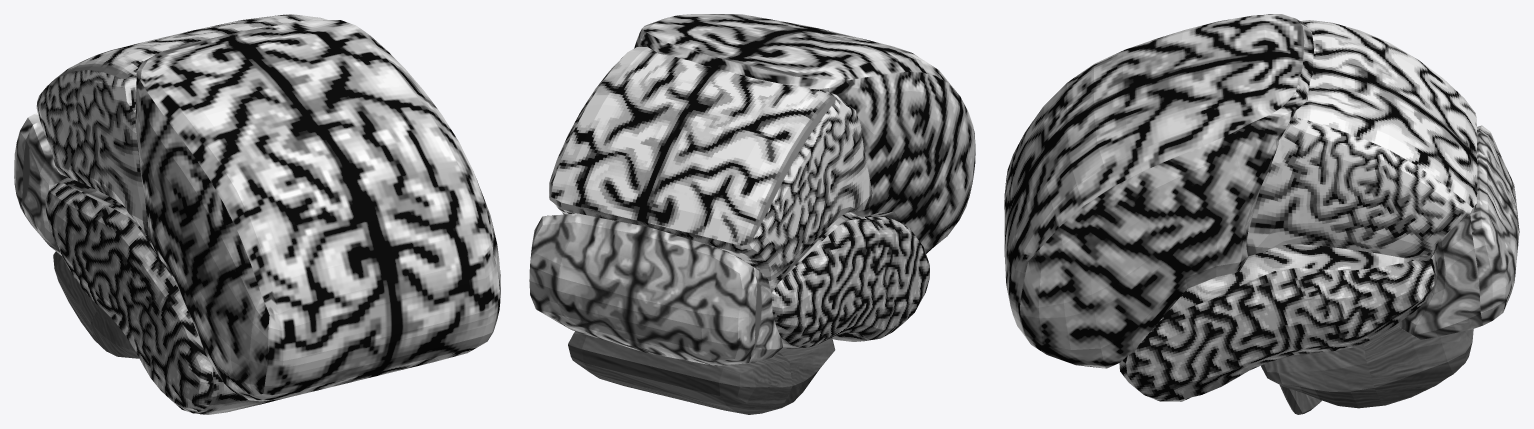
The model's file is BasicEnemy.fbx.
The picture shows the model from 3 angles, left to right: view 1: azimuth 30°, elevation 25°; view 2: azimuth 150°, elevation 25°; view 3: azimuth 270°, elevation 25°; orthographic projection. The views are drawn at different scales.
Parts seen in each view (by area): view 1: frontal.001, Temporal.001, parietal.001, Occipital.001, Cerebelo.001; view 2: parietal.001, frontal.001, Occipital.001, Temporal.001, Cerebelo.001; view 3: frontal.001, parietal.001, Temporal.001, Occipital.001, Cerebelo.001.
Part boxes in pixels (bbox=[...]): frontal.001: bbox=[135, 20, 500, 401]; Temporal.001: bbox=[45, 177, 289, 414]; parietal.001: bbox=[36, 14, 327, 234]; Occipital.001: bbox=[14, 112, 67, 255]; Cerebelo.001: bbox=[53, 251, 139, 358]; parietal.001: bbox=[549, 47, 872, 280]; frontal.001: bbox=[634, 14, 975, 253]; Occipital.001: bbox=[529, 213, 782, 366]; Temporal.001: bbox=[768, 212, 929, 348]; Cerebelo.001: bbox=[568, 331, 835, 414]; frontal.001: bbox=[1004, 14, 1314, 368]; parietal.001: bbox=[1246, 20, 1477, 260]; Temporal.001: bbox=[1119, 244, 1435, 401]; Occipital.001: bbox=[1396, 125, 1519, 339]; Cerebelo.001: bbox=[1261, 325, 1473, 414].
Bounding box in the file's own units: 267 × 336 × 449.
5 materials, 5 textured.
